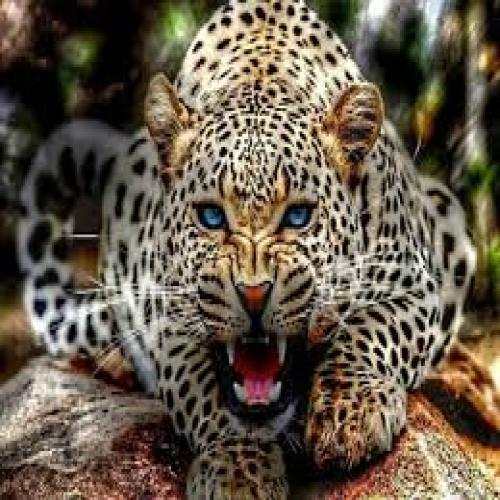jaguar_not-endangered: (85, 3, 467, 490)
